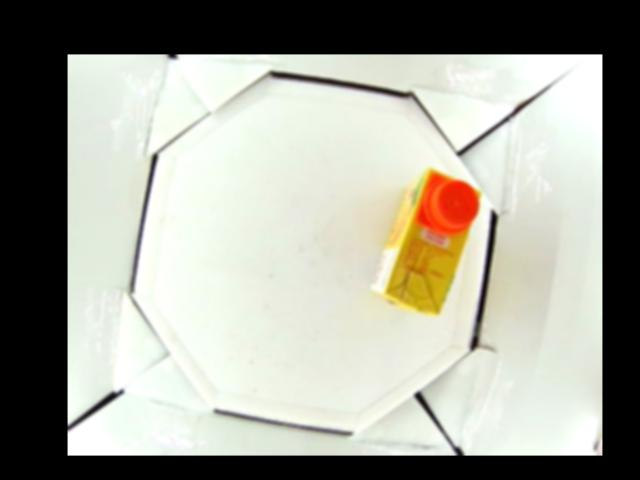Bottle: (370, 167, 483, 320)
